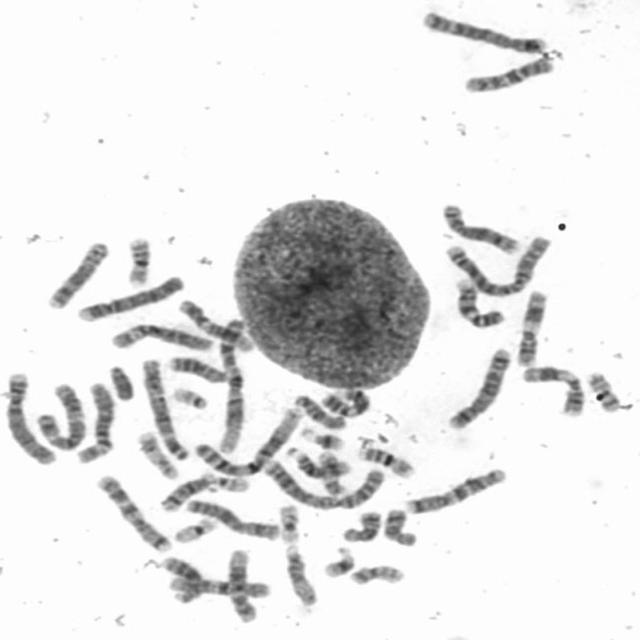A1: (191, 403, 304, 478), (213, 314, 250, 457)
A2: (441, 230, 554, 300), (260, 454, 387, 512)
A3: (138, 354, 192, 462), (33, 379, 87, 451)
B4: (0, 367, 60, 466), (73, 270, 187, 322)
B5: (418, 6, 549, 54), (444, 343, 514, 431)
C10: (459, 51, 558, 95), (166, 574, 271, 599)
C11: (518, 362, 588, 418), (514, 287, 550, 368)
C12: (174, 295, 257, 353), (224, 545, 260, 624)
C6: (72, 379, 118, 465), (106, 321, 215, 354)
C7: (92, 471, 174, 553), (402, 465, 508, 515)
C8: (39, 237, 111, 311), (438, 200, 523, 256)
C9: (452, 275, 508, 329), (319, 389, 372, 420)
D13: (158, 552, 205, 606), (164, 352, 230, 384)
D14: (156, 469, 218, 512), (282, 444, 354, 479)
D15: (281, 543, 319, 609), (290, 391, 348, 430)
E16: (355, 444, 417, 479), (122, 234, 154, 286)
E17: (134, 427, 180, 480), (314, 449, 349, 497)
E18: (338, 506, 384, 544), (380, 505, 419, 549)
F19: (170, 513, 218, 545), (273, 502, 303, 544)
F20: (583, 366, 623, 414), (345, 561, 407, 587)
G21: (296, 424, 348, 451), (320, 543, 356, 578)
G22: (168, 383, 210, 411), (204, 473, 252, 494)
X: (182, 496, 281, 542)
Y: (105, 362, 136, 402)
